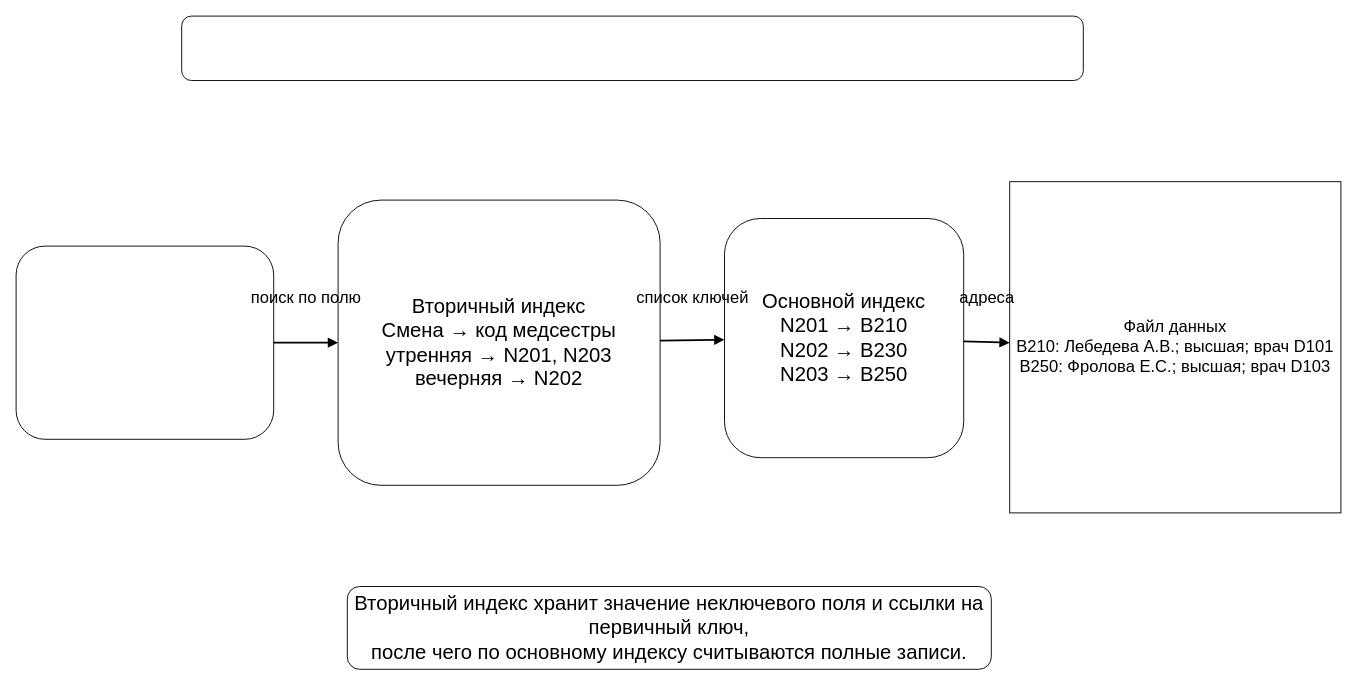
The diagram is 1357 pixels wide and 685 high, and some of its shapes have lost their labels. The centre of each missing label's shape, as x and y in pixels:
"Вторичный индекс: Медсестра (по полю «Смена»)" belongs at point 632,47.
"Запрос: Показать всех медсестёр утренней смены" belongs at point 144,342.
